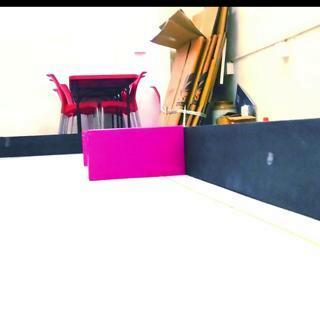xparking: (82, 126, 185, 180)
